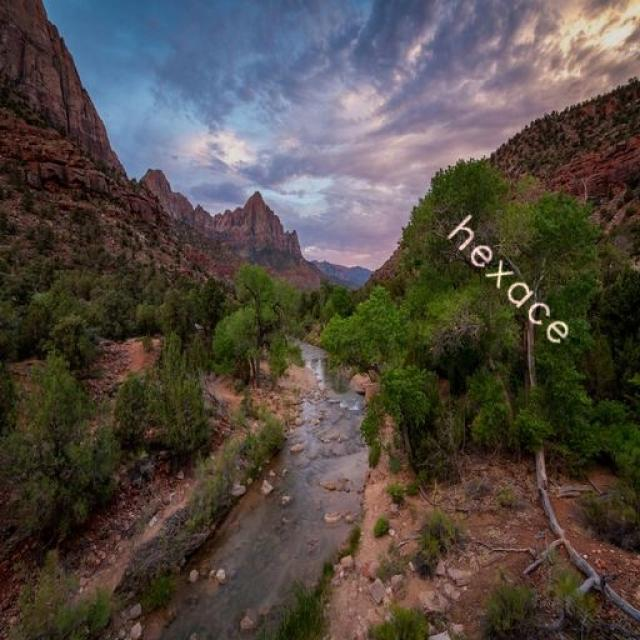watermark: (433, 200, 590, 356)
